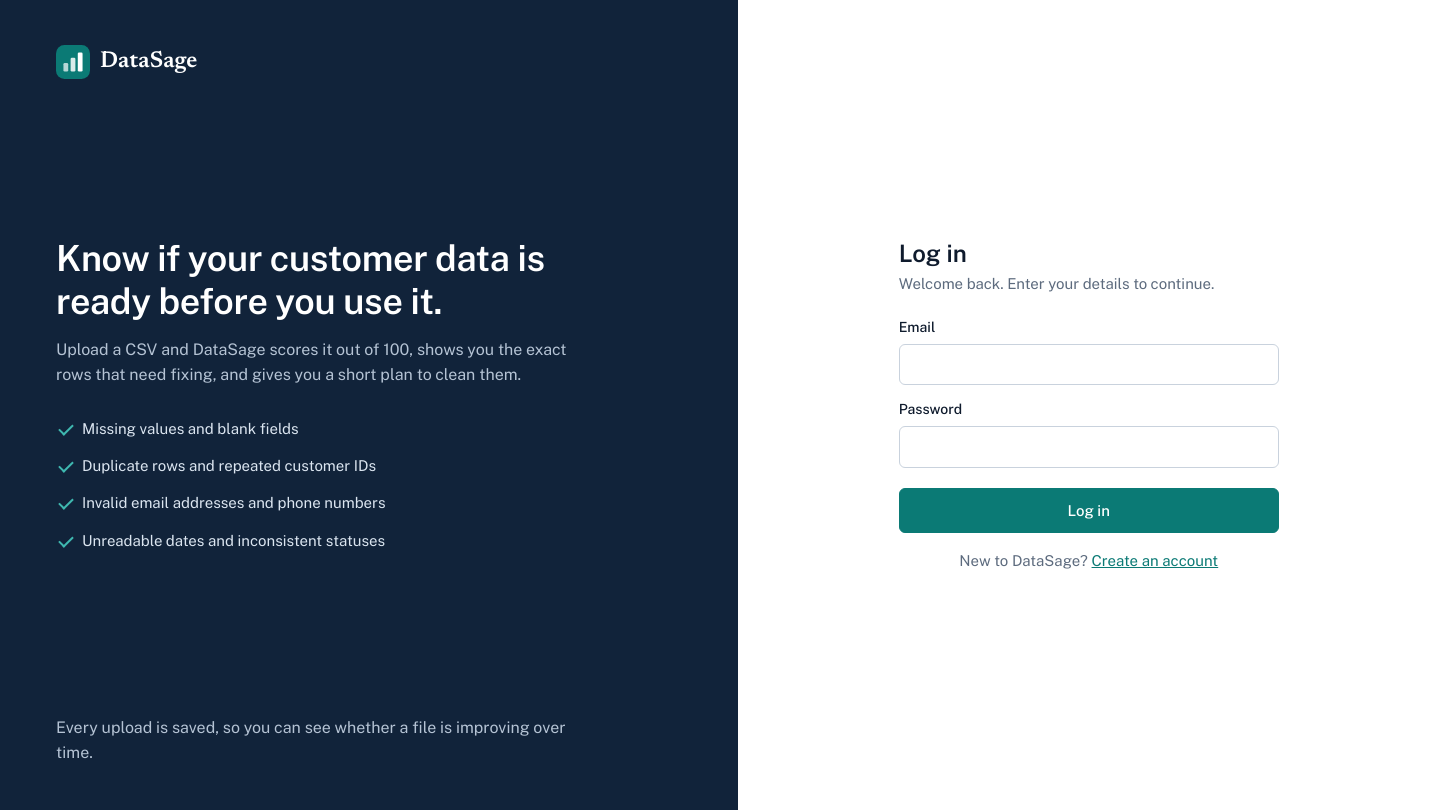
Test case: login flow › switches to sign up
This screenshot has width=1440, height=810.
Click the button "Create an account": (1155, 561) [1092,549,1218,572]
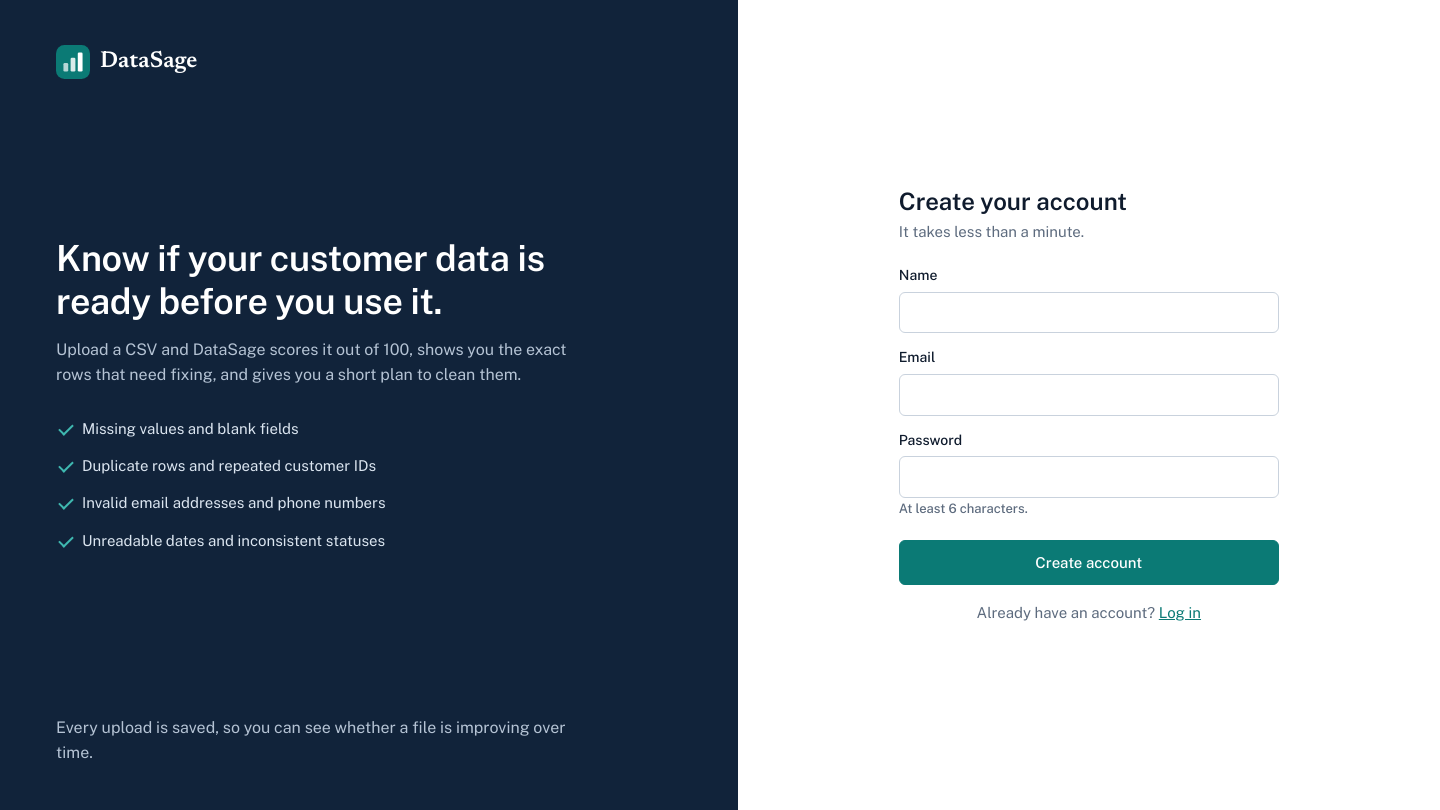
Check: the heading "Create your account" is shown, box [899,187,1127,215]
Check: the field labelled "Name" is shown, box [899,292,1279,333]
